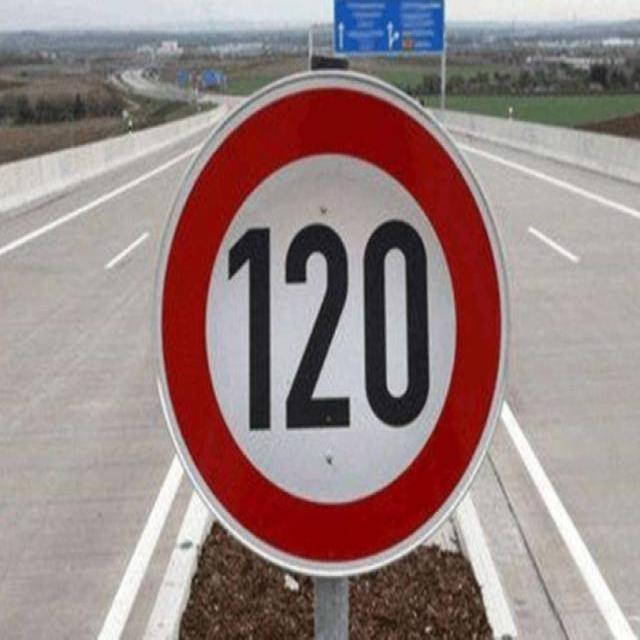speed limit 120: (151, 70, 513, 582)
